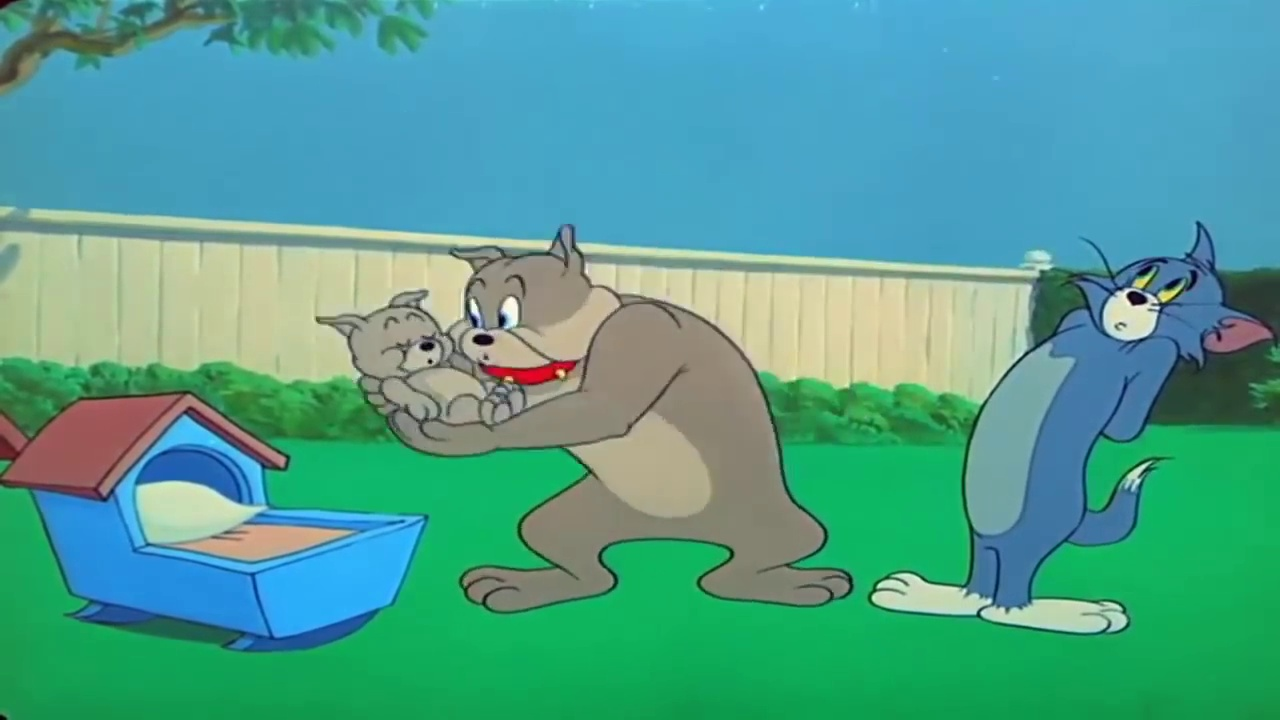spike: (442, 222, 626, 391)
tom: (1072, 222, 1277, 369)
